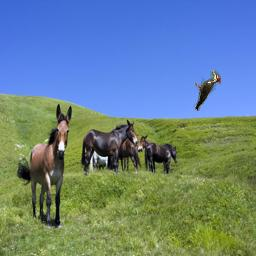Woodpecker: (193, 70, 221, 111)
